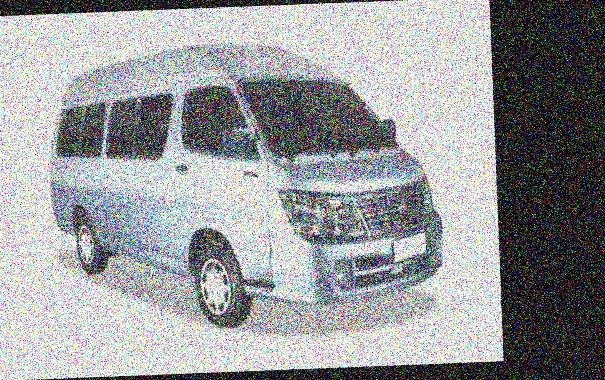van: (34, 34, 448, 329)
